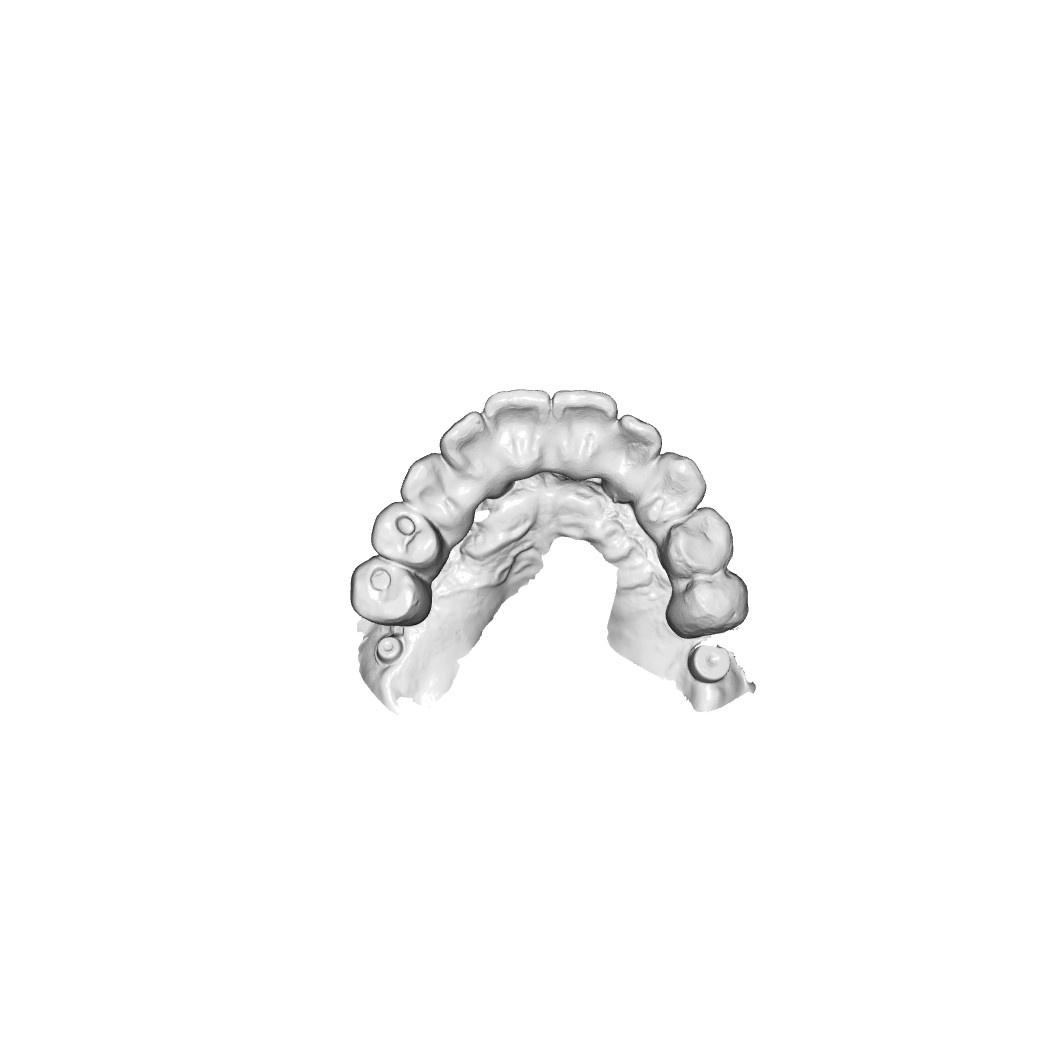canine: (404, 448, 464, 524), (642, 454, 702, 521)
implant: (691, 640, 732, 679), (366, 636, 406, 667)
incisor: (559, 388, 627, 488), (486, 388, 557, 474), (445, 414, 503, 488), (611, 411, 660, 498)
premolar: (350, 556, 423, 620), (677, 572, 750, 632), (669, 505, 733, 572), (368, 502, 437, 564)
